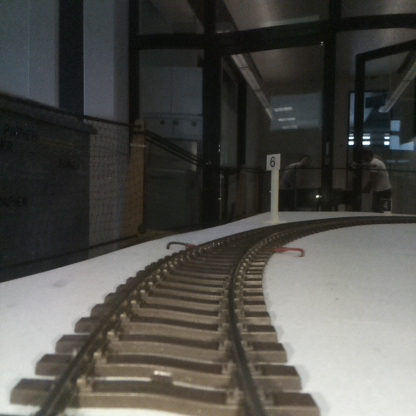white-info-6: (266, 153, 279, 222)
